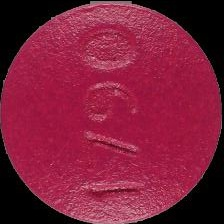68084-846: (0, 0, 224, 224)
